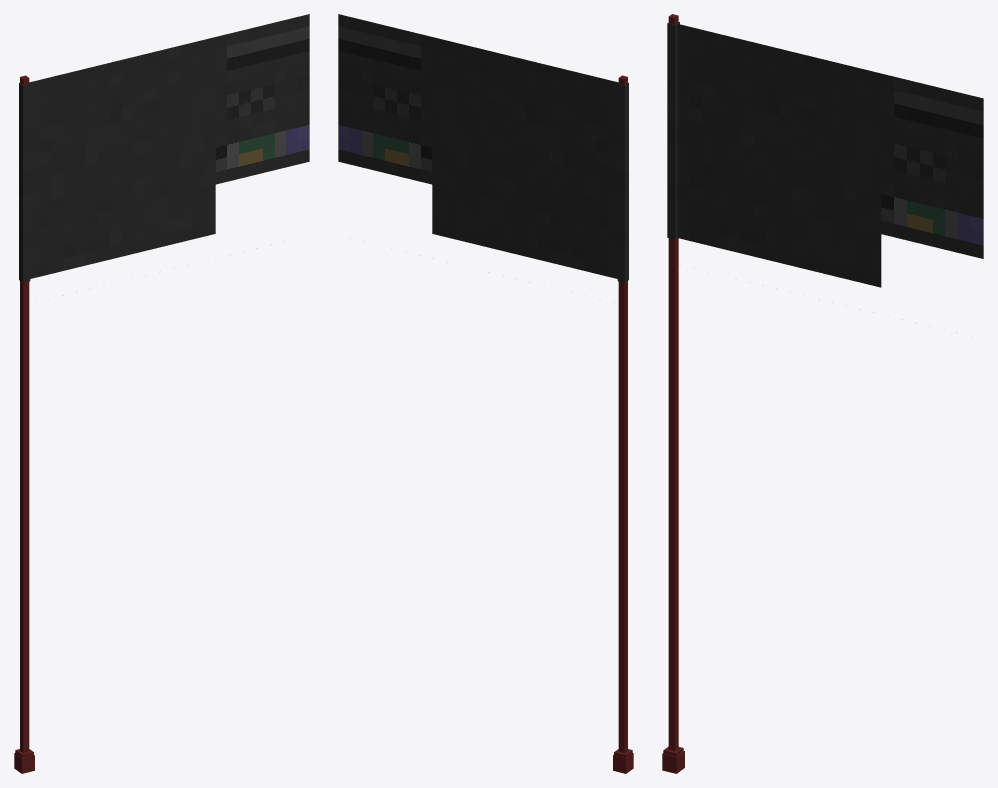
Rendered from flag.obj.
3 views of the same model, side by side, from view 1: azimuth 30°, elevation 25°; view 2: azimuth 150°, elevation 25°; view 3: azimuth 330°, elevation 25° (orthographic). The views are drawn at different scales.
Visible parts, largest first — view 1: cube; view 2: cube; view 3: cube.
Part boxes in pixels (x1,y1,x2,y2): cube: [14, 14, 309, 773]; cube: [338, 14, 633, 773]; cube: [662, 14, 983, 773].
Bounding box in the file's own units: 0.7754 × 1.76 × 0.0352.
